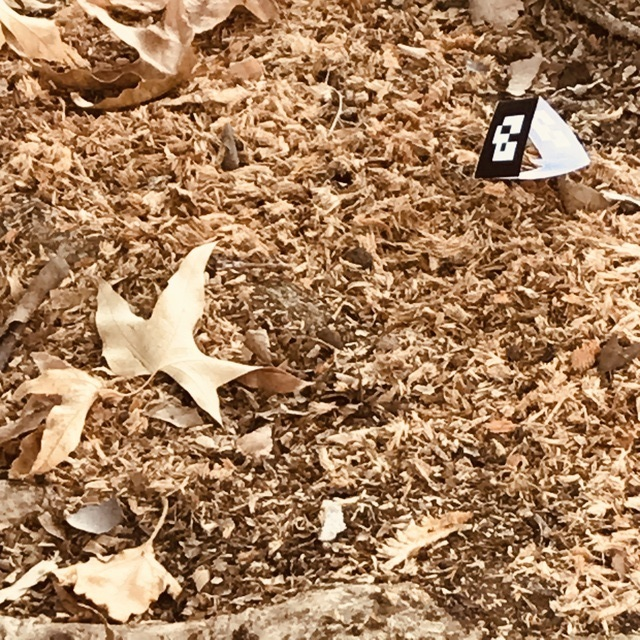ARTag: (473, 96, 592, 182)
